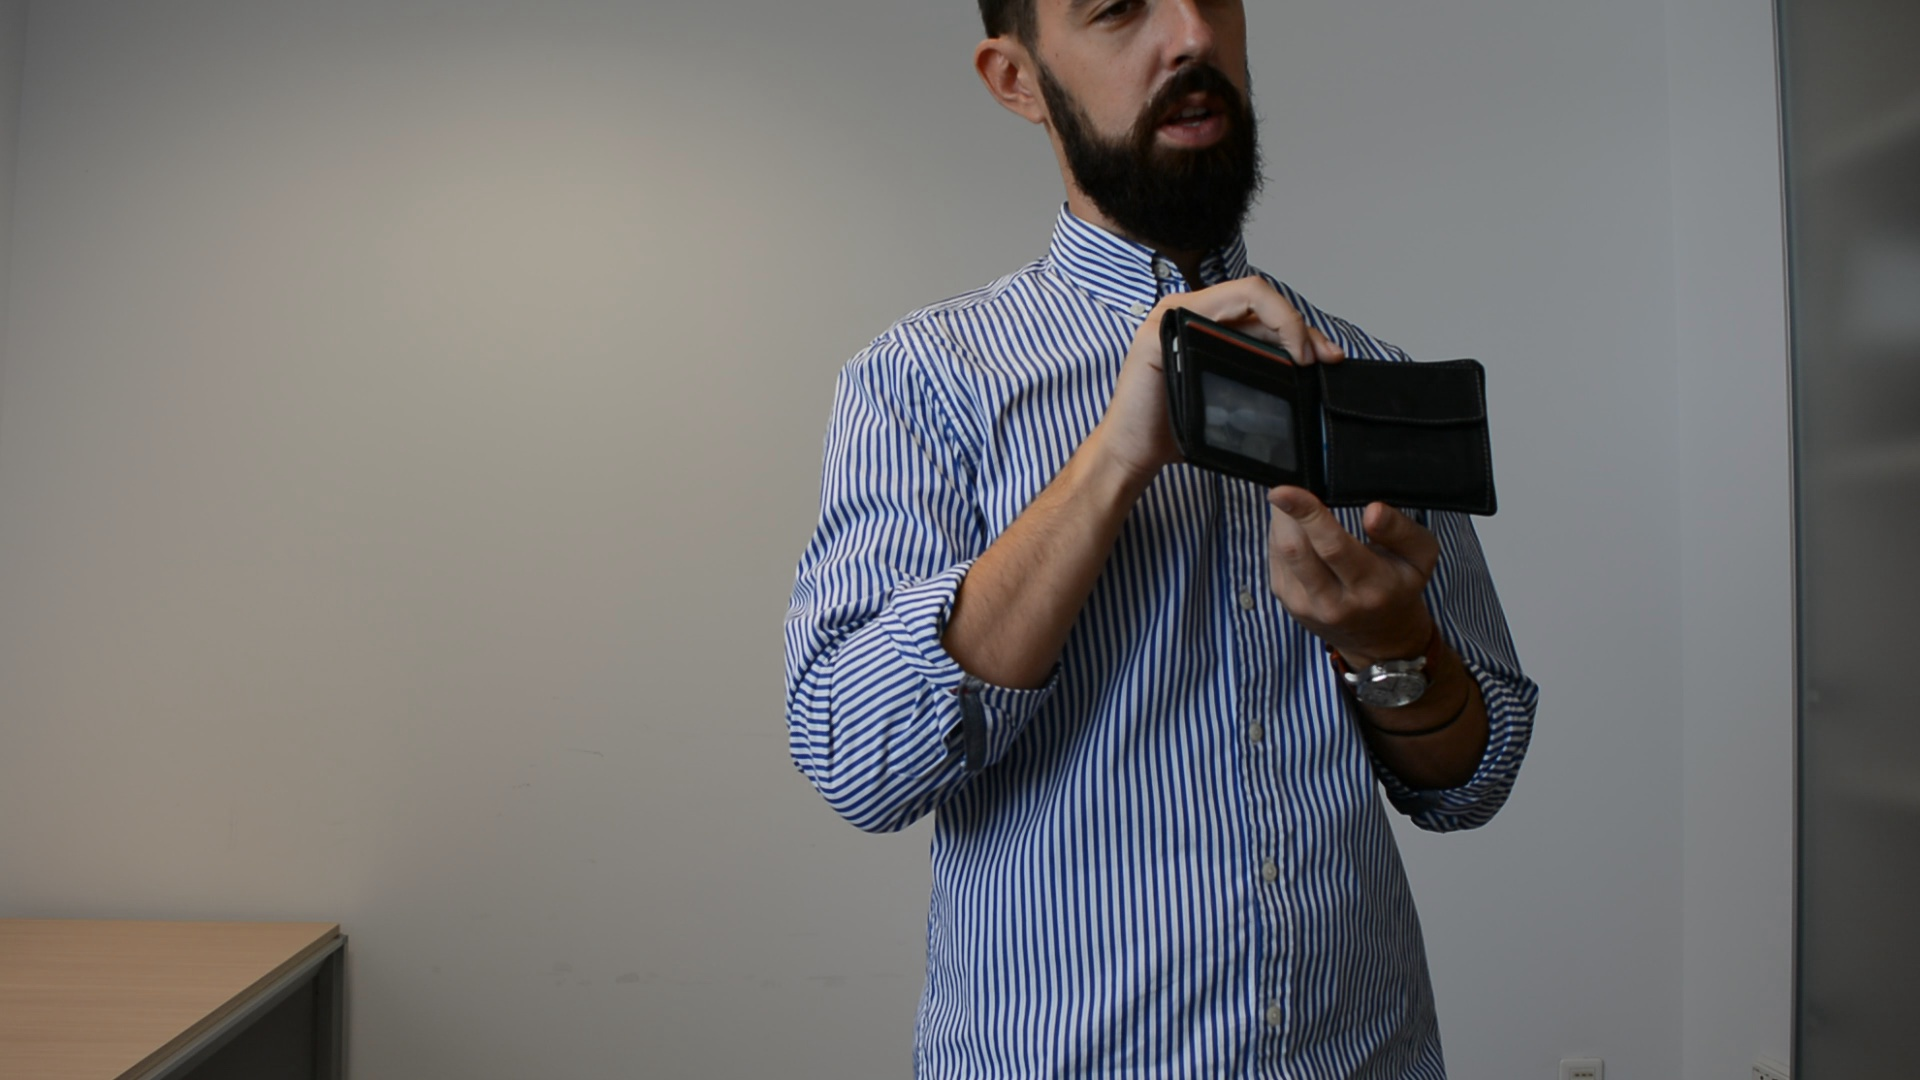monedero: (1156, 302, 1501, 524)
